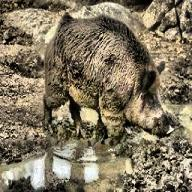boar: (41, 11, 181, 146)
